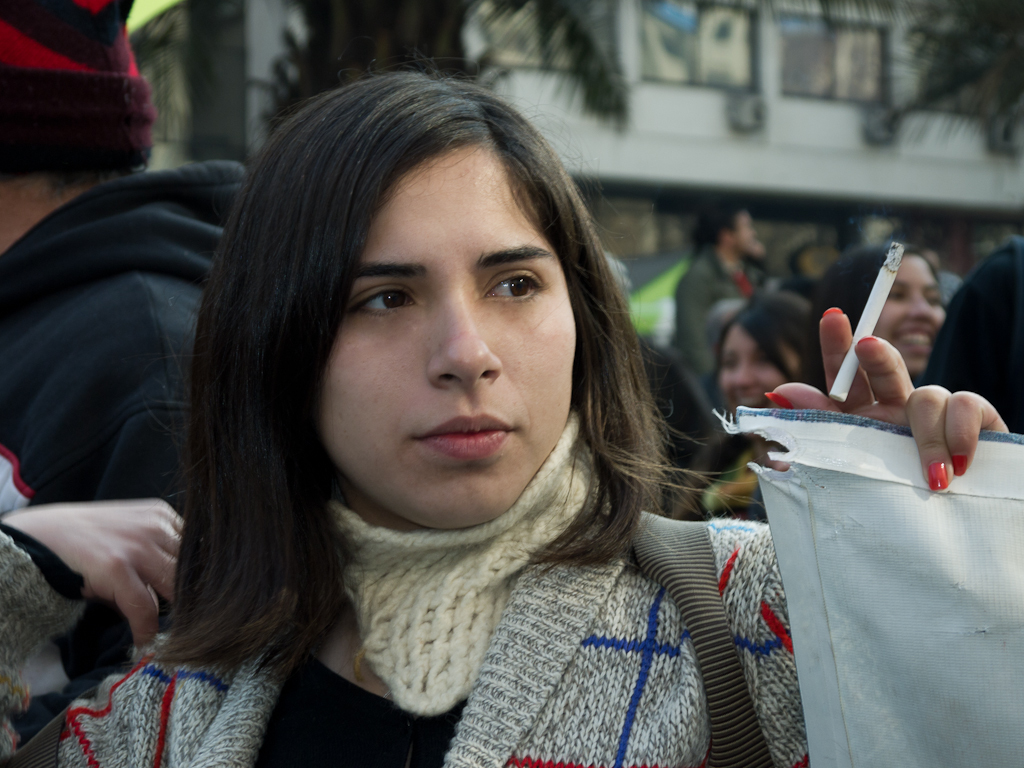Human_hand: (760, 305, 1015, 492), (22, 477, 190, 670), (728, 469, 757, 497)
